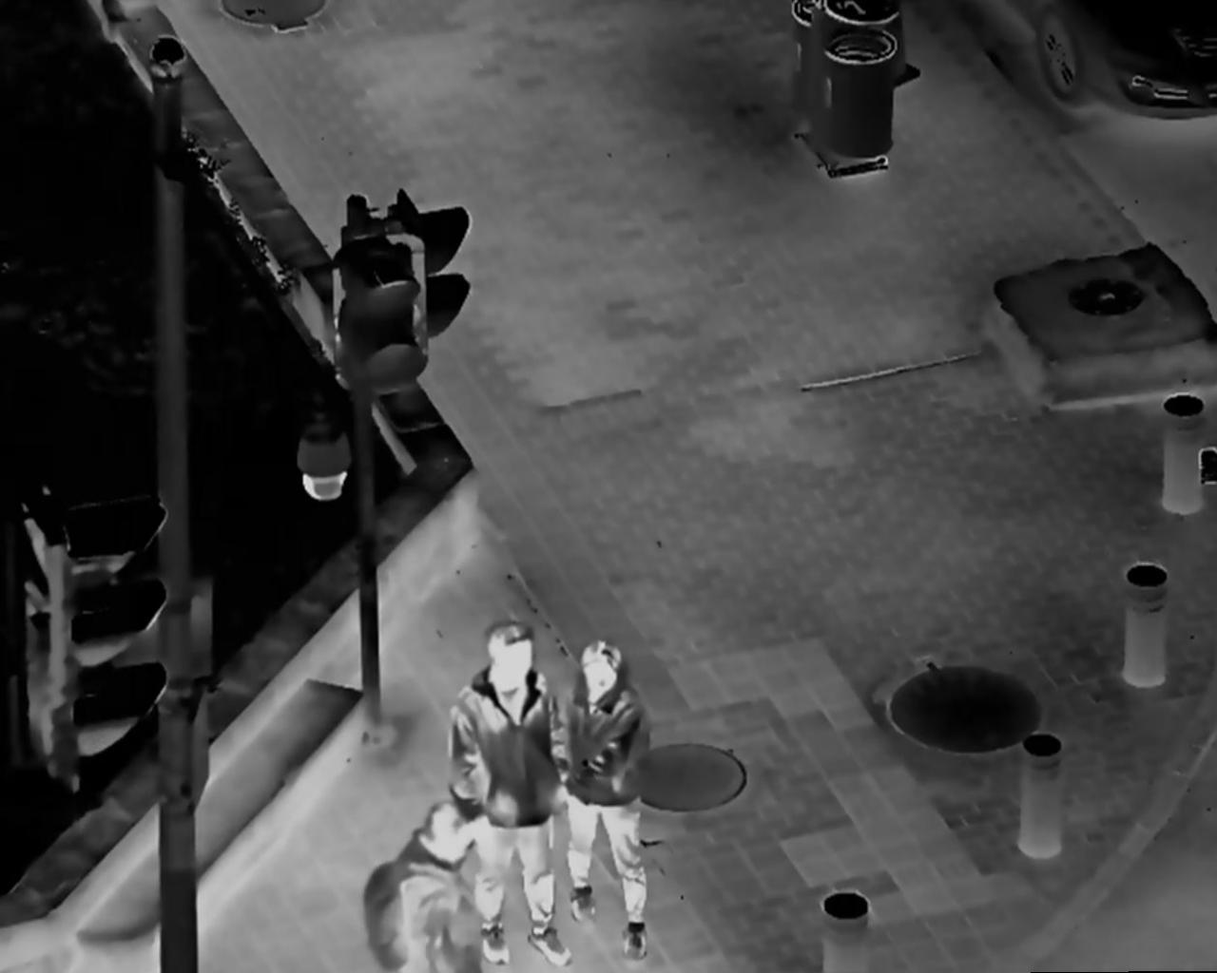person: (438, 621, 581, 968), (555, 635, 660, 967), (353, 797, 504, 973)
